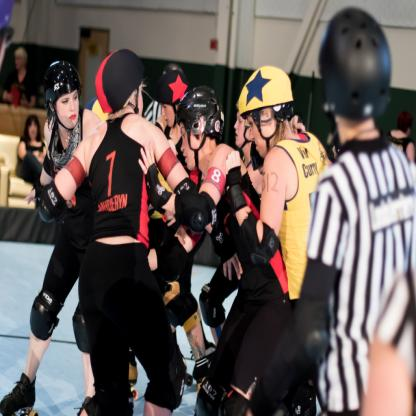Helmet: (316, 6, 391, 118), (238, 70, 304, 143), (172, 84, 225, 174), (95, 46, 150, 116), (150, 63, 192, 136), (43, 54, 84, 112), (238, 112, 258, 148)
